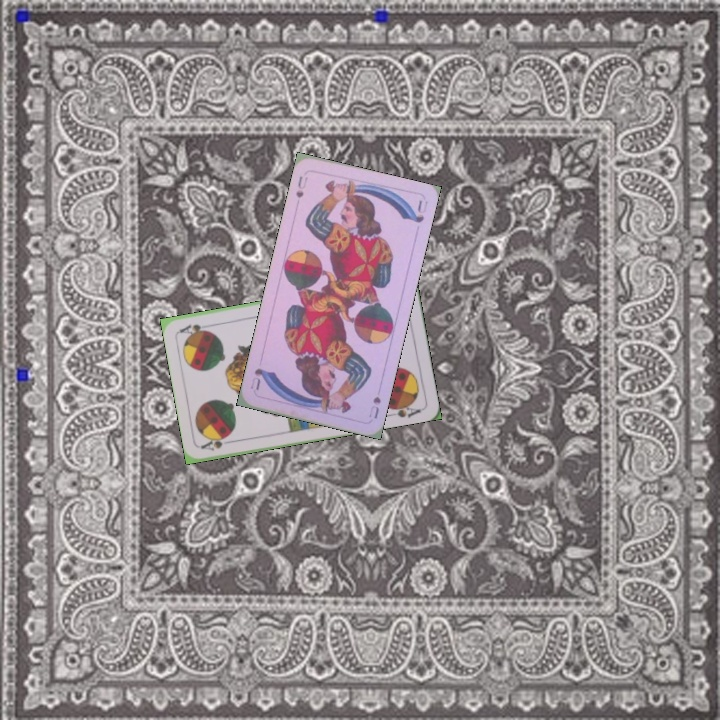SA: (197, 432, 238, 453)
SU: (291, 172, 310, 200), (365, 392, 383, 421)
